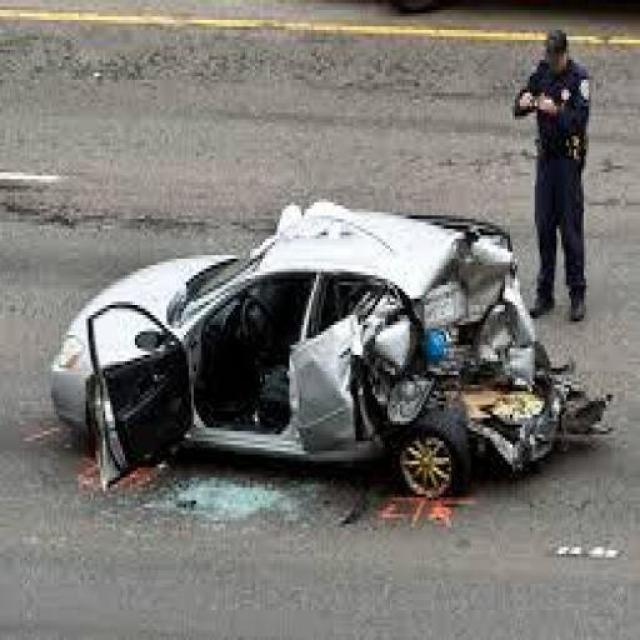crush: (278, 206, 618, 479)
